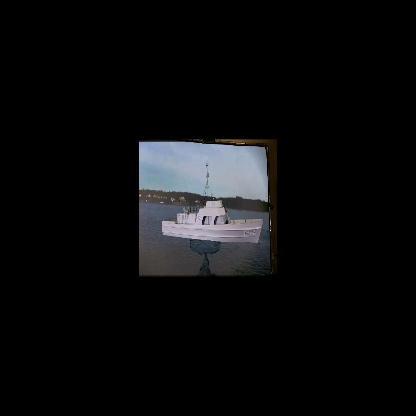YP689: (162, 160, 263, 244)
